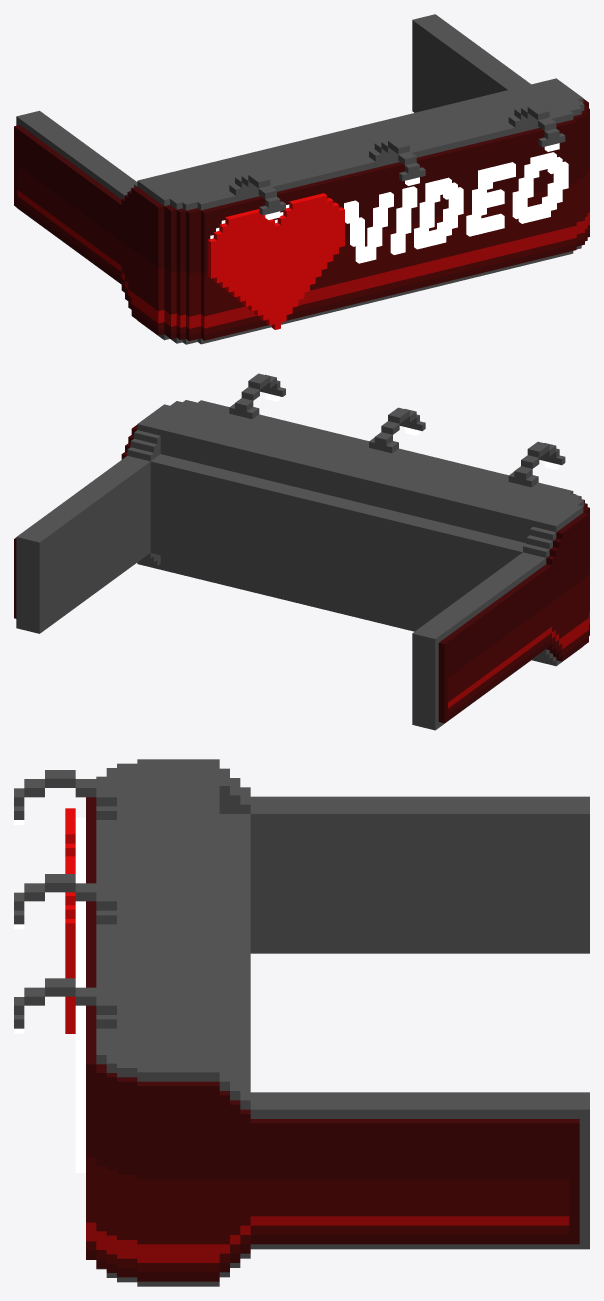
File: javStore.glb
The picture shows the model from 3 angles, top to bottom: view 1: azimuth 30°, elevation 25°; view 2: azimuth 150°, elevation 25°; view 3: azimuth 270°, elevation 25°; orthographic projection. The views are drawn at different scales.
Parts seen in each view (by area): view 1: ObjObject; view 2: ObjObject; view 3: ObjObject.
Boxes of the visible parts, bbox=[...] form: ObjObject: bbox=[14, 14, 589, 344]; ObjObject: bbox=[14, 373, 589, 730]; ObjObject: bbox=[14, 759, 589, 1286].
Size of the model in its own units: 7.4 by 2.8 by 5.6.
Materials: 2 (1 with a texture image).
